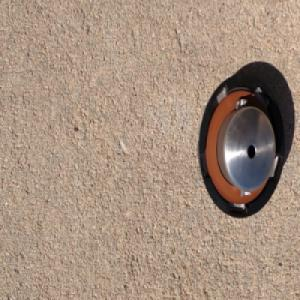FuelCap: (197, 68, 286, 221)
